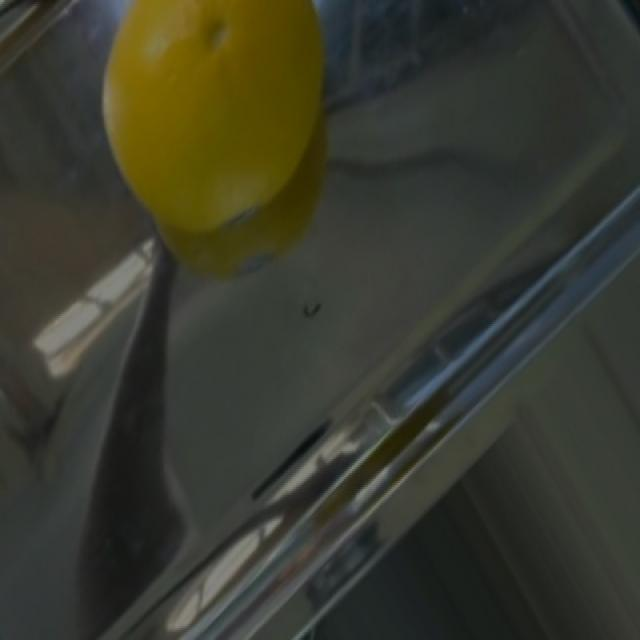Fruit: (73, 2, 348, 248)
